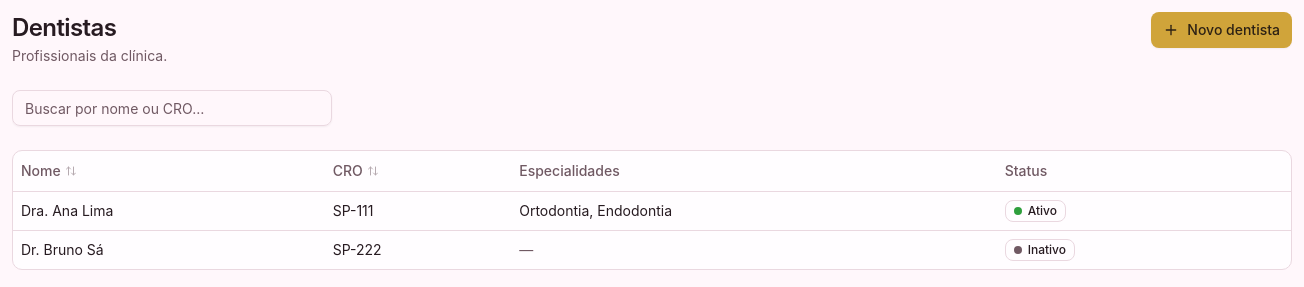
Test case: DentistasPage › filtra pela busca (nome ou CRO)
The image size is (1304, 287).
In the field with placeholder "Buscar por nome ou CRO…": (172, 108) [12,90,332,126], type "bruno"
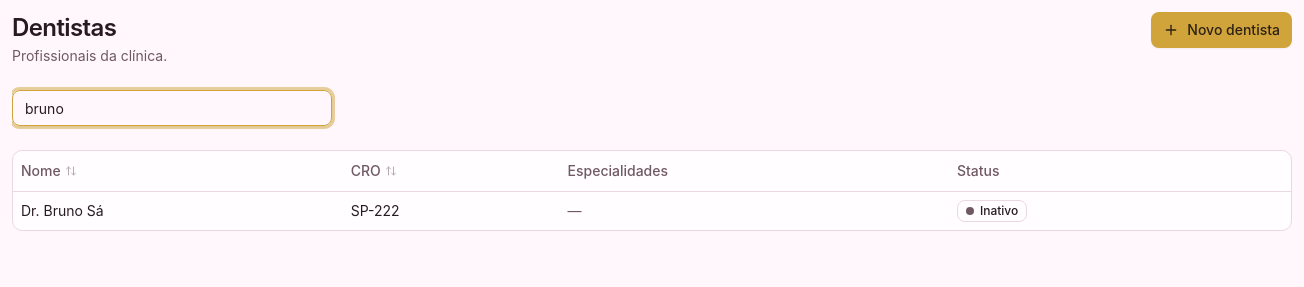
Expected: the text "Dr. Bruno Sá" is shown, [13,191,343,230]
Expected: the text "Dra. Ana Lima" is gone
